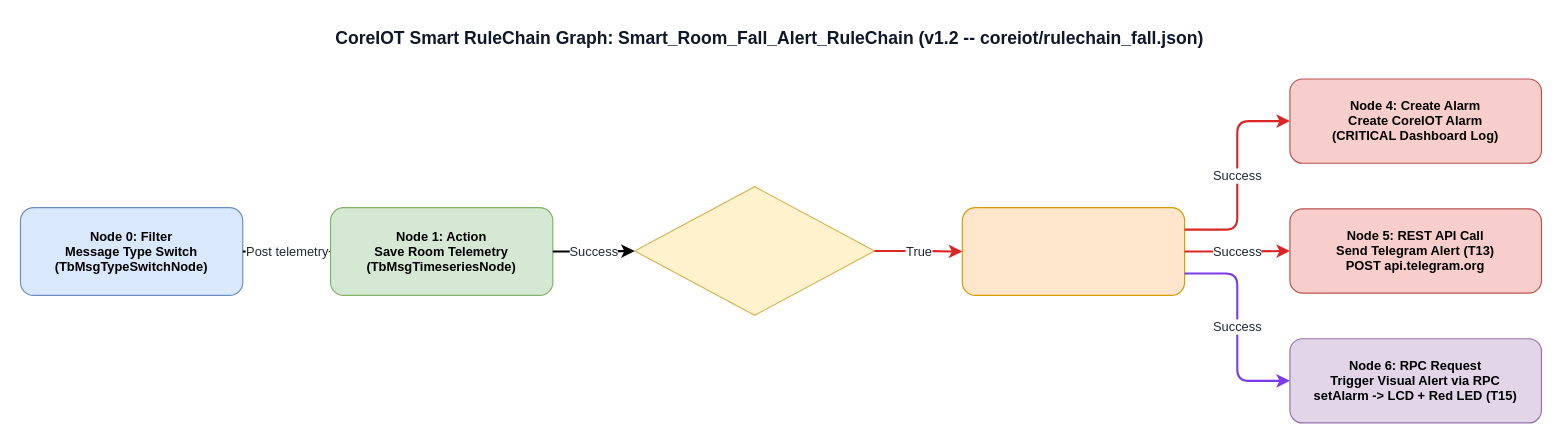
This 1562x443 diagram has some shape labels left out. The centre of each missing label's shape, as x and y in pixels:
"Node 2: JS Filter Check FALL or SOS? FALL & conf>=0.80 || SOS" goes at [754,250].
"Node 3: Transform Format Alert Message (Set alarm_type & text)" goes at [1073,251].
